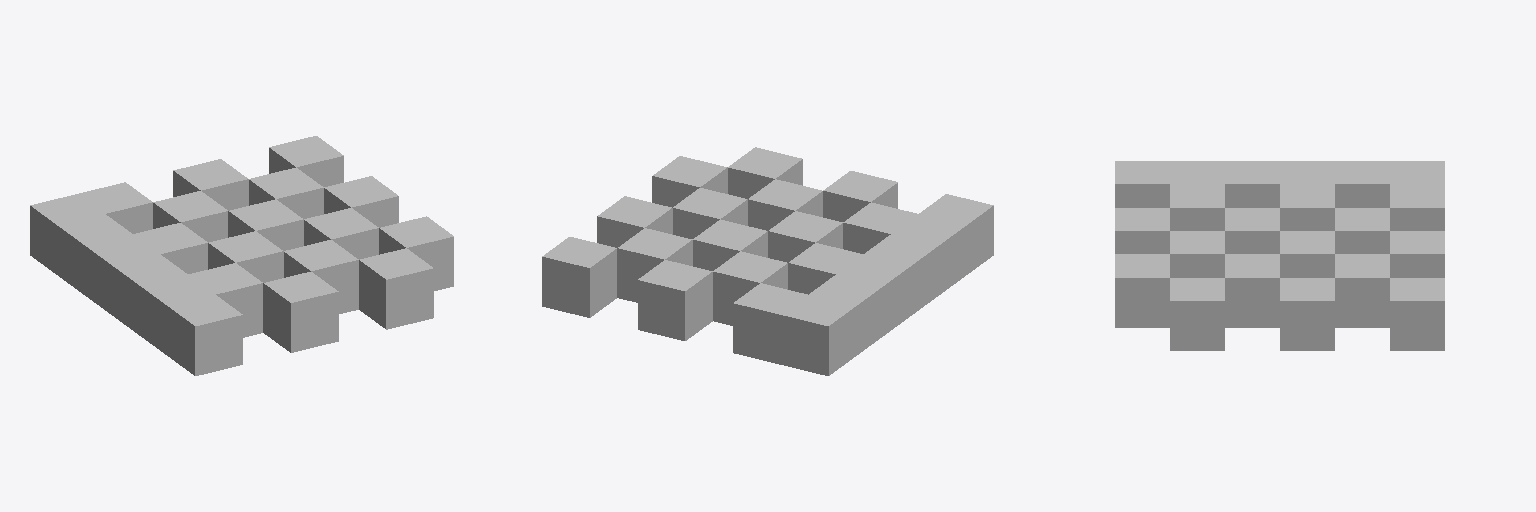
File: Side Grate U.obj
3 renders of one model, left to right at view 1: azimuth 30°, elevation 25°; view 2: azimuth 150°, elevation 25°; view 3: azimuth 270°, elevation 25°, orthographic.
Visible parts, largest first — view 1: object 1; view 2: object 1; view 3: object 1.
Boxes of the visible parts, box(x1,y1,x2,y2) form: object 1: box(30, 136, 453, 375); object 1: box(542, 147, 993, 375); object 1: box(1115, 161, 1444, 350).
Bounding box in the file's own units: 0.6 × 0.1 × 0.6.